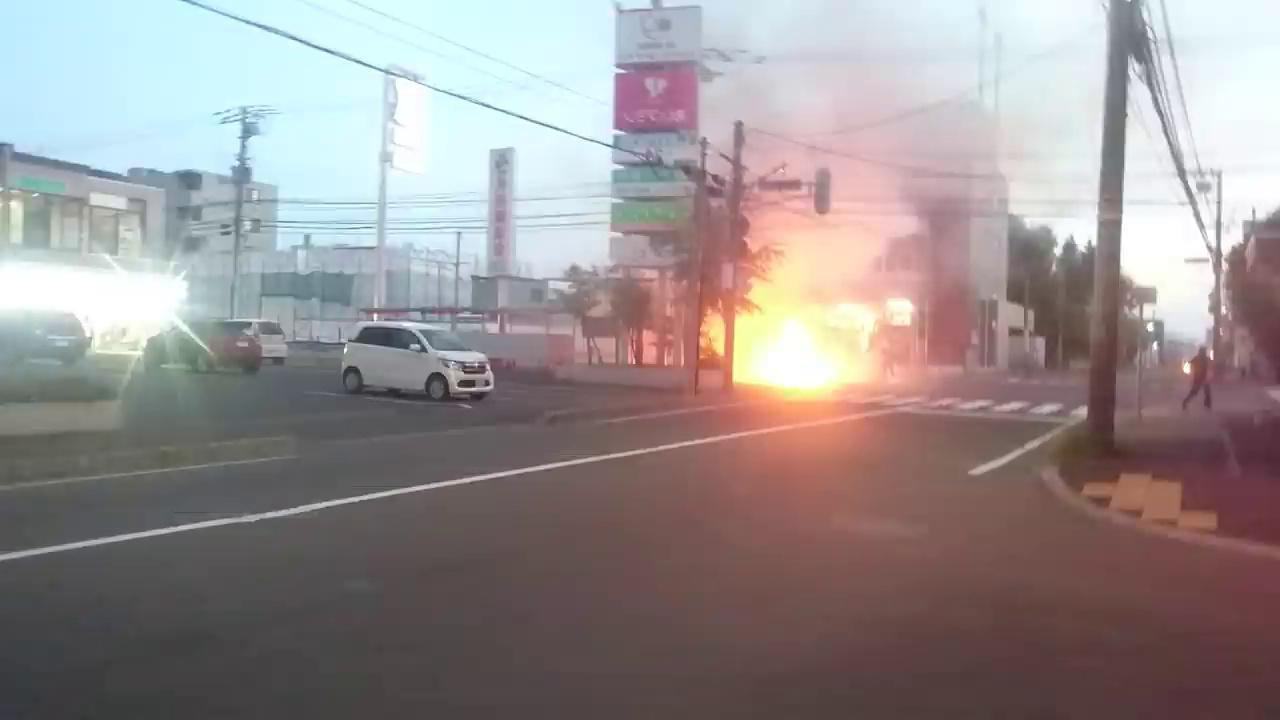Fire: (713, 311, 872, 393)
